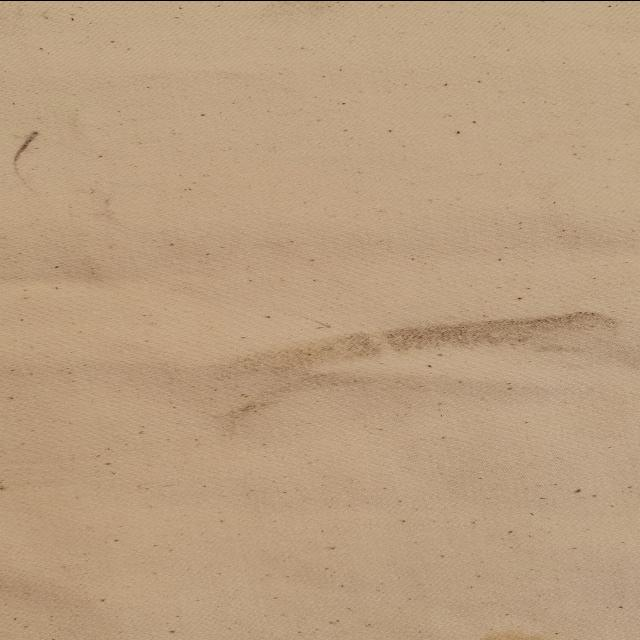taaaches: (153, 302, 640, 456), (0, 122, 51, 182), (453, 627, 611, 640)
